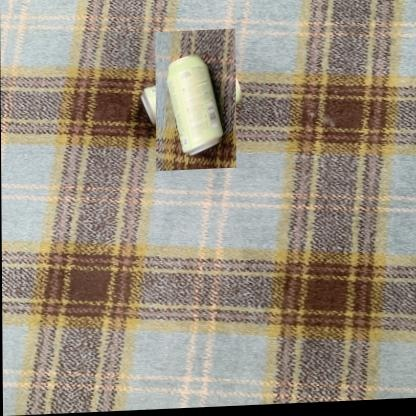trash: (167, 55, 222, 154)
